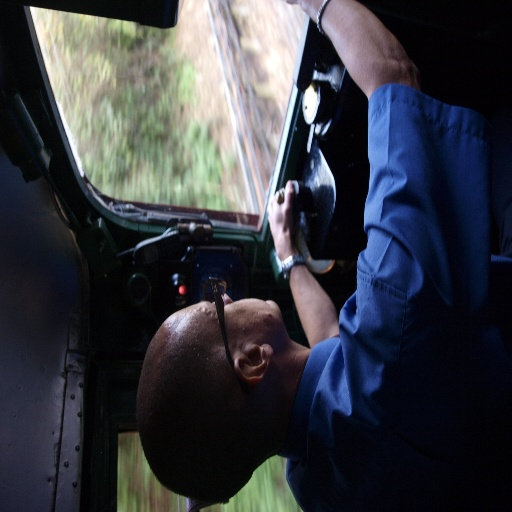hand: (326, 10, 423, 101), (266, 179, 295, 251)
